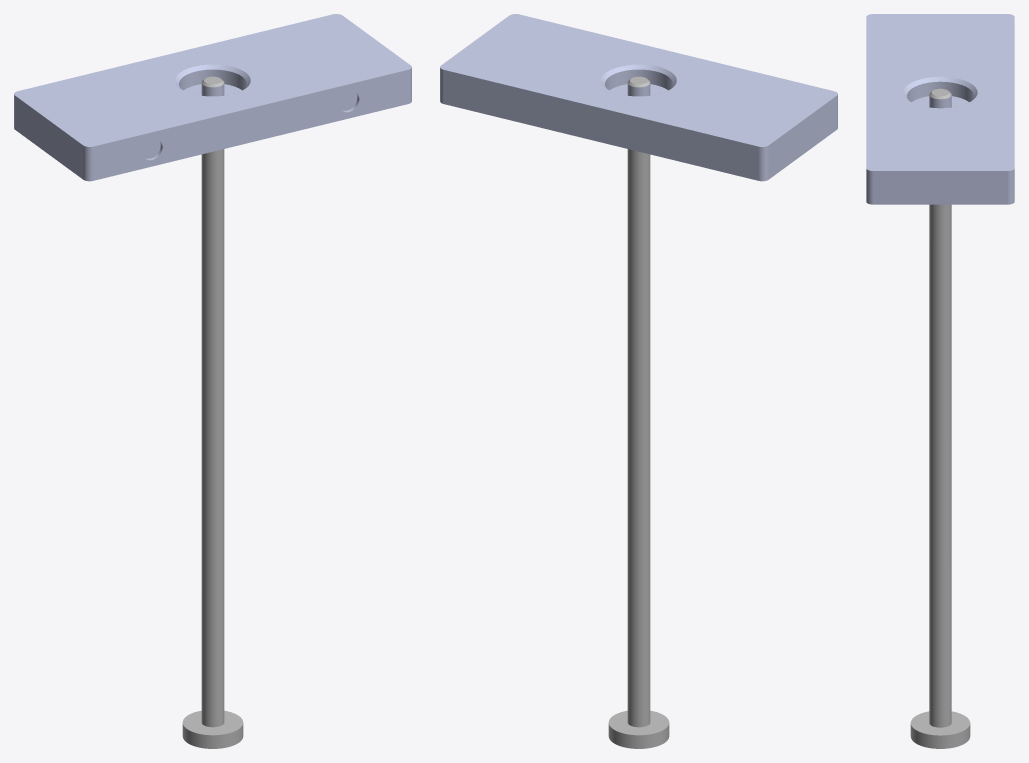
The model's file is 19204_DSNU_16_125_P_A____0_ROD.glb.
3 views of the same model, side by side, from view 1: azimuth 30°, elevation 25°; view 2: azimuth 150°, elevation 25°; view 3: azimuth 270°, elevation 25° (orthographic).
Parts seen in each view (by area): view 1: 19204_DSNU_16_125_P_A____0_ROD.IGS (×2); view 2: 19204_DSNU_16_125_P_A____0_ROD.IGS (×2); view 3: 19204_DSNU_16_125_P_A____0_ROD.IGS (×2).
Boxes of the visible parts, box(x1,y1,x2,y2) form: 19204_DSNU_16_125_P_A____0_ROD.IGS (×2): box(14, 14, 411, 748); 19204_DSNU_16_125_P_A____0_ROD.IGS (×2): box(440, 14, 837, 748); 19204_DSNU_16_125_P_A____0_ROD.IGS (×2): box(866, 14, 1014, 748).
Size of the model in its own units: 0.1 by 0.1912 by 0.04.
